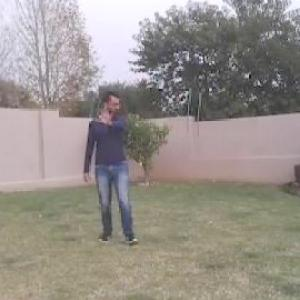follow_hand: (93, 103, 118, 125)
